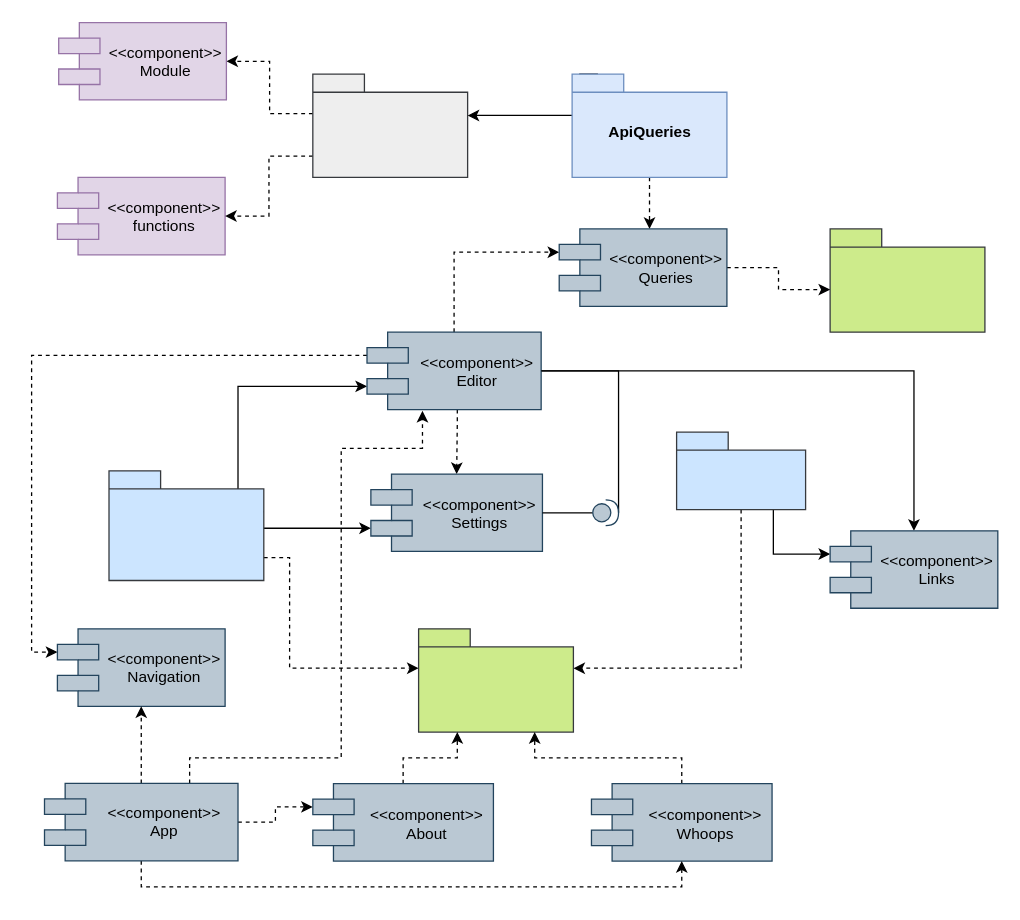
Some shapes in this 1020 by 920 pixel diagram are drawn without their labels. The box of each missing label's shape, as (x1, y1, x2, y2) in pixels:
axios: (829, 228, 985, 332)
cloud functions: (312, 73, 468, 177)
Editor: (108, 470, 264, 580)
Links: (675, 431, 806, 510)
Preferences: (591, 499, 619, 526)
react bootstrap: (417, 628, 573, 732)
